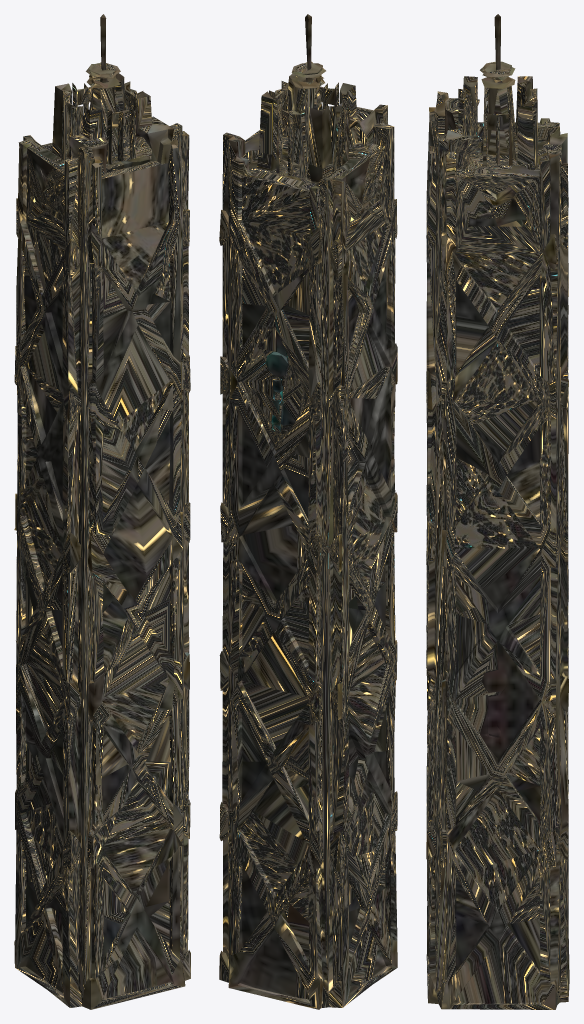
File: t03_far.glb
3 renders of one model, left to right at view 1: azimuth 30°, elevation 25°; view 2: azimuth 150°, elevation 25°; view 3: azimuth 270°, elevation 25°, orthographic.
Visible parts, largest first — view 1: t03_far; view 2: t03_far; view 3: t03_far.
Boxes of the visible parts, bbox=[...] form: t03_far: bbox=[14, 14, 190, 1009]; t03_far: bbox=[219, 14, 397, 1009]; t03_far: bbox=[426, 14, 569, 1009].
Size of the model in its own units: 28.23 by 210 by 28.22.
Materials: 1 (1 with a texture image).
